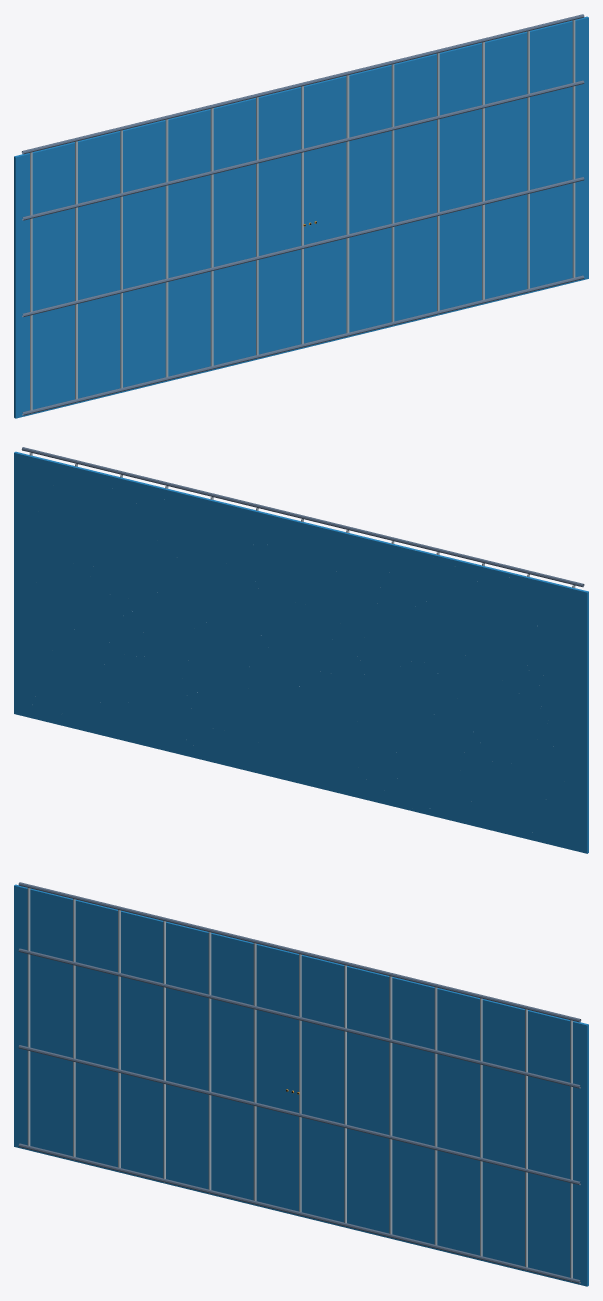
File: 01_L90_EarthPanoramicObservationDome.fbx
3 views of the same model, one above another, from view 1: azimuth 30°, elevation 25°; view 2: azimuth 150°, elevation 25°; view 3: azimuth 330°, elevation 25° (orthographic).
Parts seen in each view (by area): view 1: L90_EarthPanoramicObservationDome; view 2: L90_EarthPanoramicObservationDome; view 3: L90_EarthPanoramicObservationDome.
Part boxes in pixels (bbox=[...]): L90_EarthPanoramicObservationDome: bbox=[14, 14, 588, 418]; L90_EarthPanoramicObservationDome: bbox=[14, 447, 588, 853]; L90_EarthPanoramicObservationDome: bbox=[14, 882, 588, 1286].
Size of the model in its own units: 3170 by 1409 by 106.
